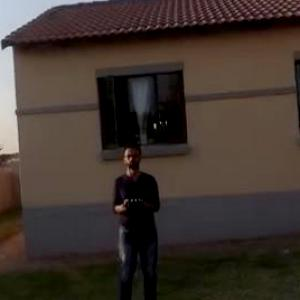follow: (108, 135, 168, 299)
